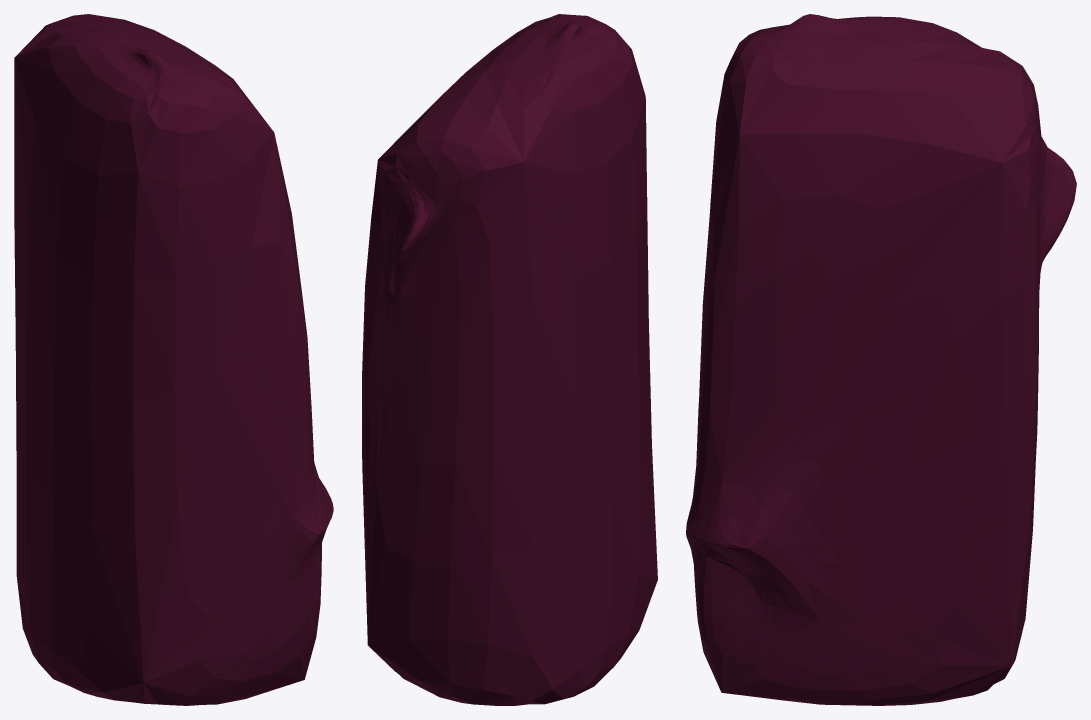
The picture shows the model from 3 angles, left to right: view 1: azimuth 30°, elevation 25°; view 2: azimuth 150°, elevation 25°; view 3: azimuth 270°, elevation 25°; orthographic projection. The views are drawn at different scales.
Parts seen in each view (by area): view 1: 557_Cube.2246; view 2: 557_Cube.2246; view 3: 557_Cube.2246.
Boxes of the visible parts, x1,y1,x2,y2 form: 557_Cube.2246: (14,14,333,705); 557_Cube.2246: (362,14,657,705); 557_Cube.2246: (686,14,1076,705).
Size of the model in its own units: 4.48 by 13.16 by 6.93.
